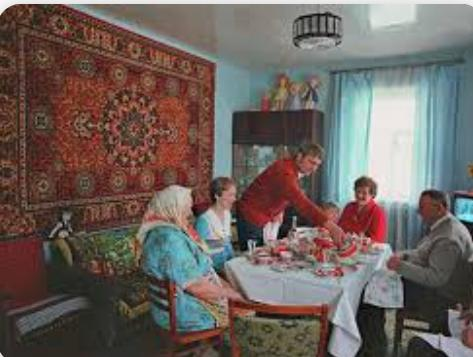carpet: (0, 5, 214, 236)
